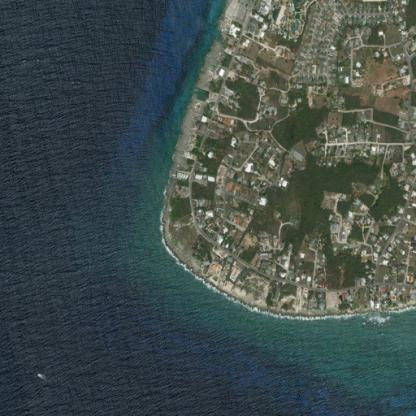ship: (36, 372, 40, 376)
